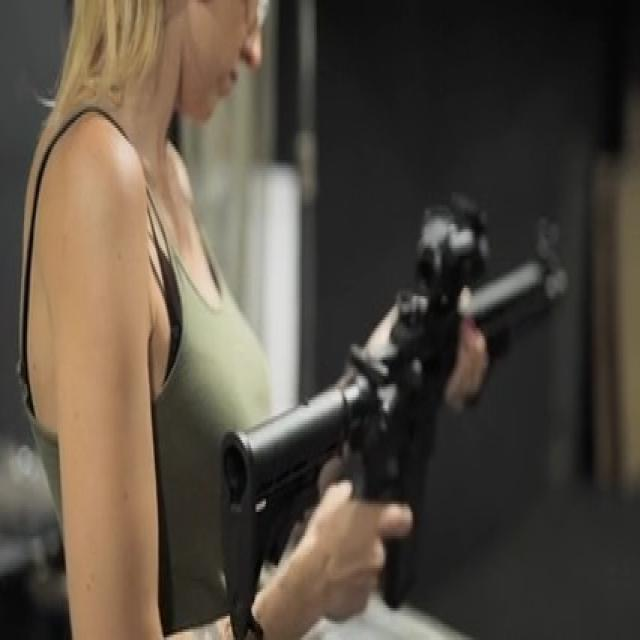Gun_Holder: (184, 180, 627, 640)
Person: (17, 0, 409, 640)
